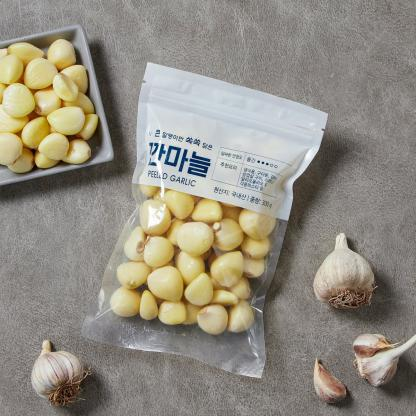garlic: (316, 235, 374, 316), (27, 344, 93, 407), (342, 335, 415, 382), (302, 358, 353, 402), (146, 261, 184, 303), (26, 58, 62, 92), (211, 256, 252, 285), (177, 224, 214, 256), (1, 80, 37, 112), (210, 220, 246, 252), (182, 272, 220, 302), (232, 232, 272, 259), (115, 259, 150, 288), (50, 108, 86, 136), (142, 200, 171, 234), (158, 296, 188, 327), (145, 236, 174, 268), (167, 188, 196, 219), (36, 132, 70, 158), (228, 300, 254, 334), (6, 42, 26, 86), (244, 210, 273, 240), (22, 115, 48, 148), (113, 284, 138, 317), (192, 198, 221, 226), (60, 63, 84, 96), (195, 304, 224, 329), (60, 138, 90, 162), (138, 288, 159, 322), (48, 42, 74, 68), (180, 256, 206, 280), (210, 281, 234, 304), (242, 256, 264, 278), (2, 132, 17, 162)
